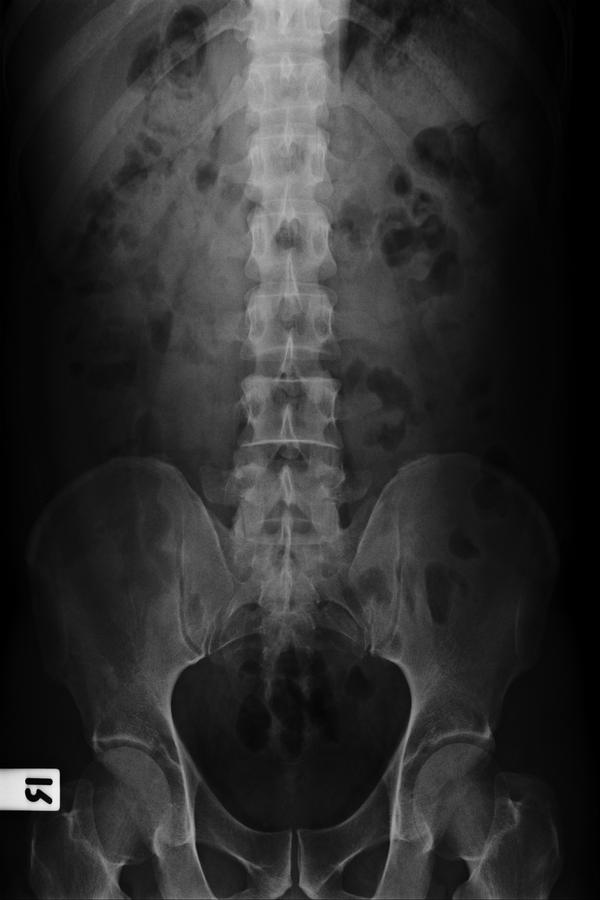not lumbar scoliosis: (240, 161, 342, 572)
